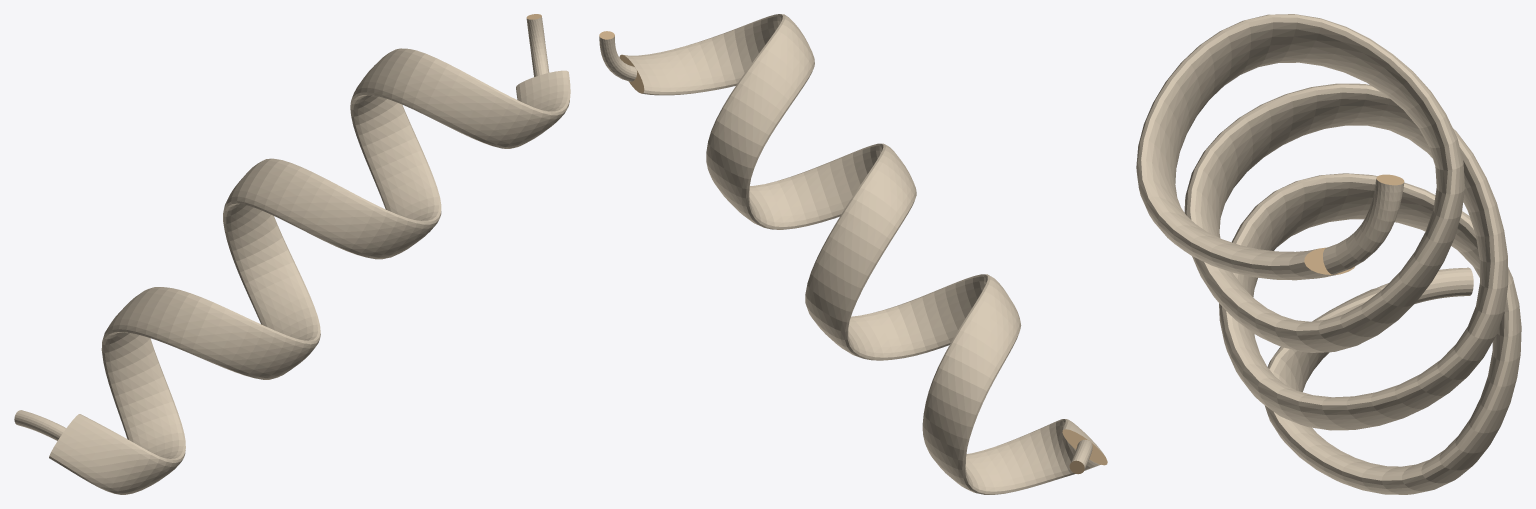
File: rCoil.dae
3 renders of one model, left to right at view 1: azimuth 30°, elevation 25°; view 2: azimuth 150°, elevation 25°; view 3: azimuth 270°, elevation 25°, orthographic. The views are drawn at different scales.
Visible parts, largest first — view 1: Shape_IndexedTriangleStripSet_014; view 2: Shape_IndexedTriangleStripSet_014; view 3: Shape_IndexedTriangleStripSet_014.
Boxes of the visible parts, box(x1,y1,x2,y2) form: Shape_IndexedTriangleStripSet_014: box(14, 14, 570, 494); Shape_IndexedTriangleStripSet_014: box(599, 14, 1107, 494); Shape_IndexedTriangleStripSet_014: box(1136, 14, 1521, 494).
Bounding box in the file's own units: 18.79 × 6.78 × 13.54.
